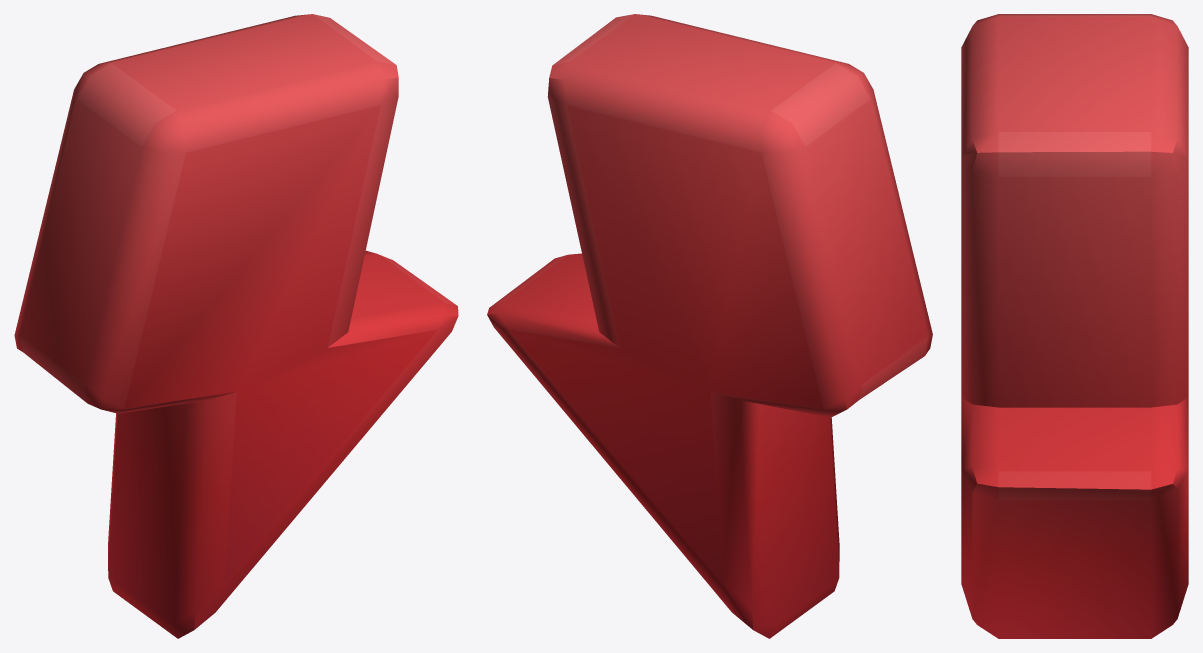
File: power_red.glb
The picture shows the model from 3 angles, left to right: view 1: azimuth 30°, elevation 25°; view 2: azimuth 150°, elevation 25°; view 3: azimuth 270°, elevation 25°; orthographic projection. The views are drawn at different scales.
Parts seen in each view (by area): view 1: power_red; view 2: power_red; view 3: power_red.
Part boxes in pixels (box(x1,y1,x2,y2)): power_red: box(14, 14, 458, 638); power_red: box(487, 14, 932, 638); power_red: box(961, 14, 1188, 638).
Bounding box in the file's own units: 0.8907 × 1.2 × 0.4.
Materials: 1 (1 with a texture image).
